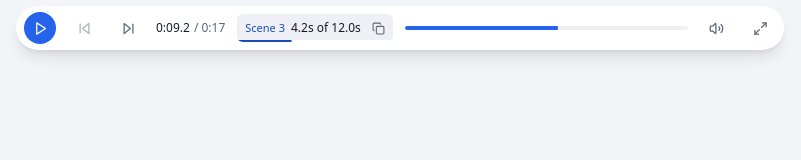
the scene clock › copies the moment as a timing to start a narration line with
Click the button named "Copy this moment as a narration timing" at point(379, 28), box [367,16,391,40]
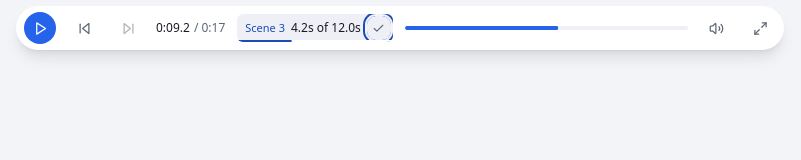
Check: the button named "Copied" is shown, box [367,16,391,40]
